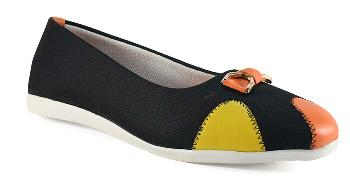Footwear: (23, 13, 342, 171)
